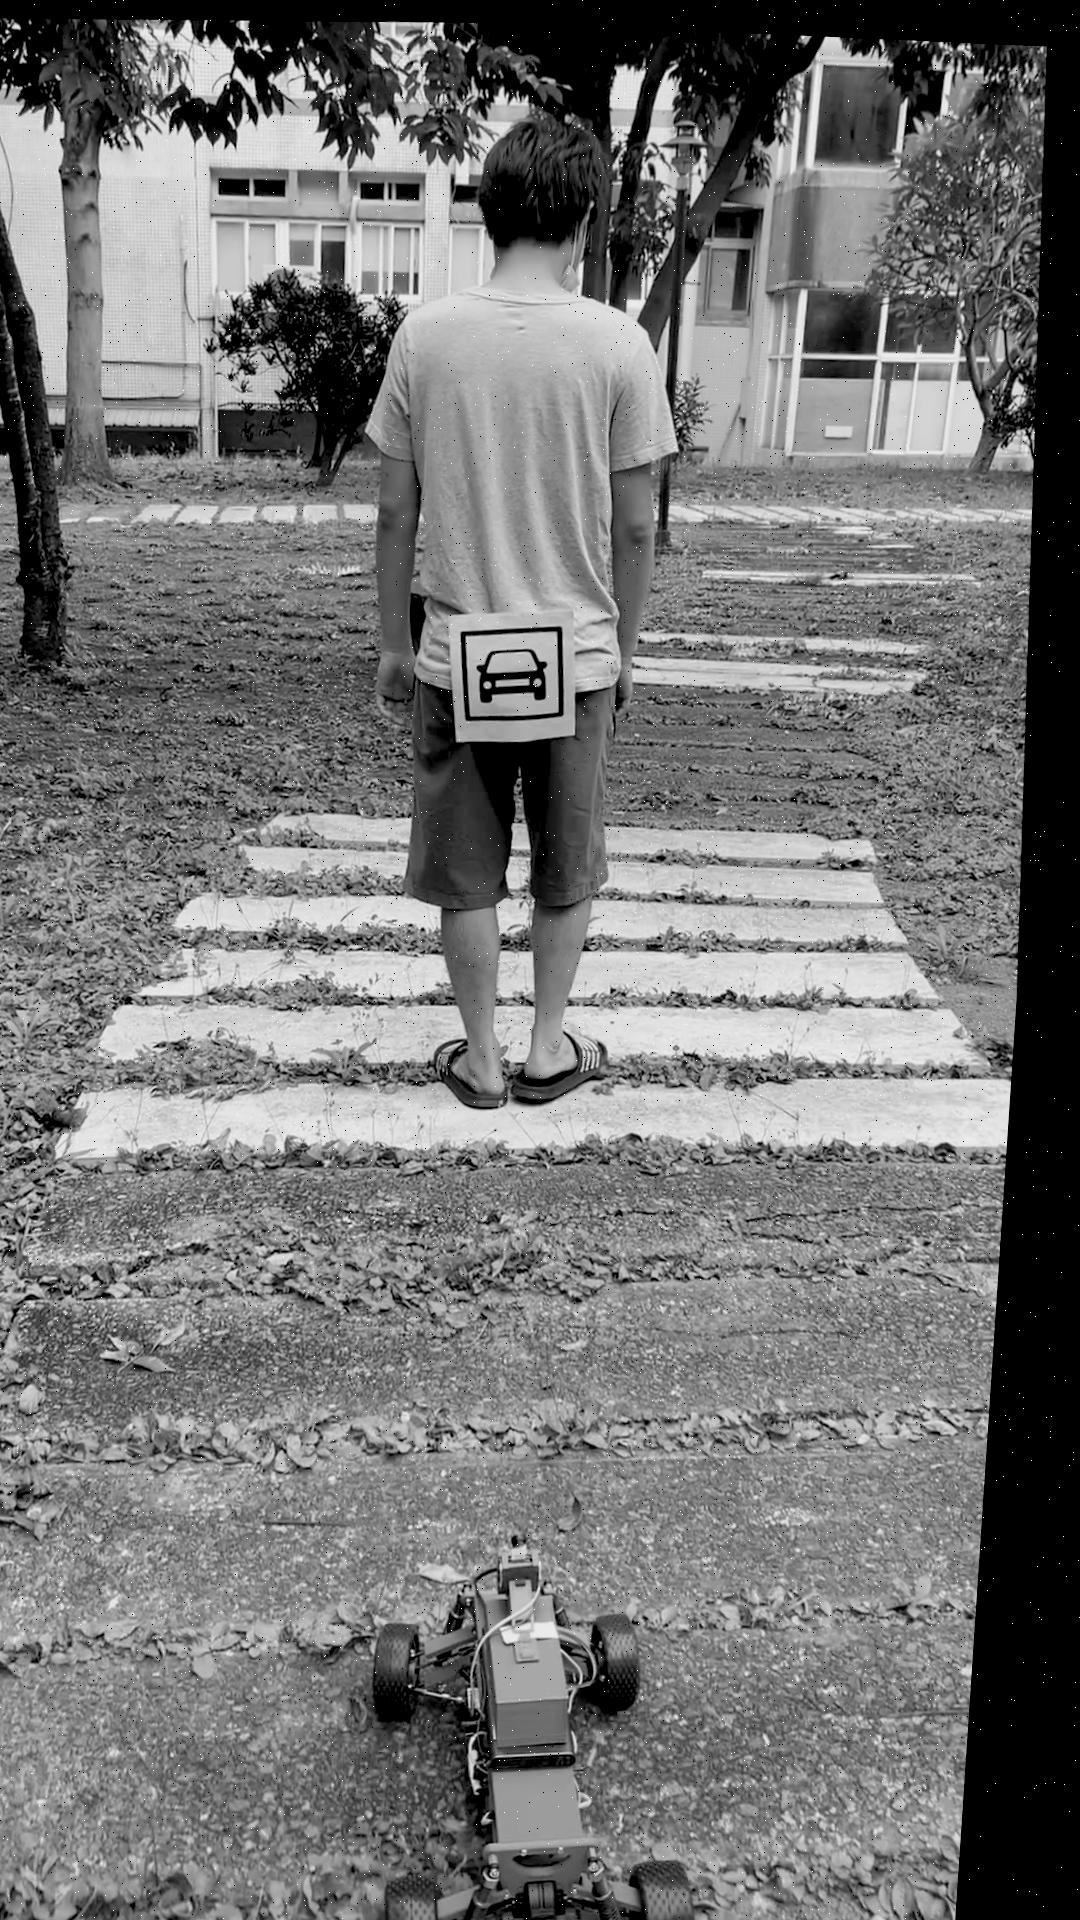car_img: (463, 616, 579, 720)
